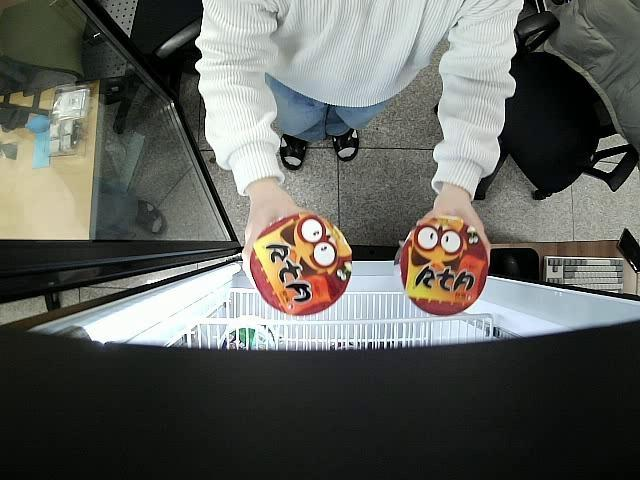05_nuguri_L: (250, 210, 358, 318), (392, 216, 488, 317)
